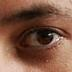eye: (36, 31, 54, 44)
